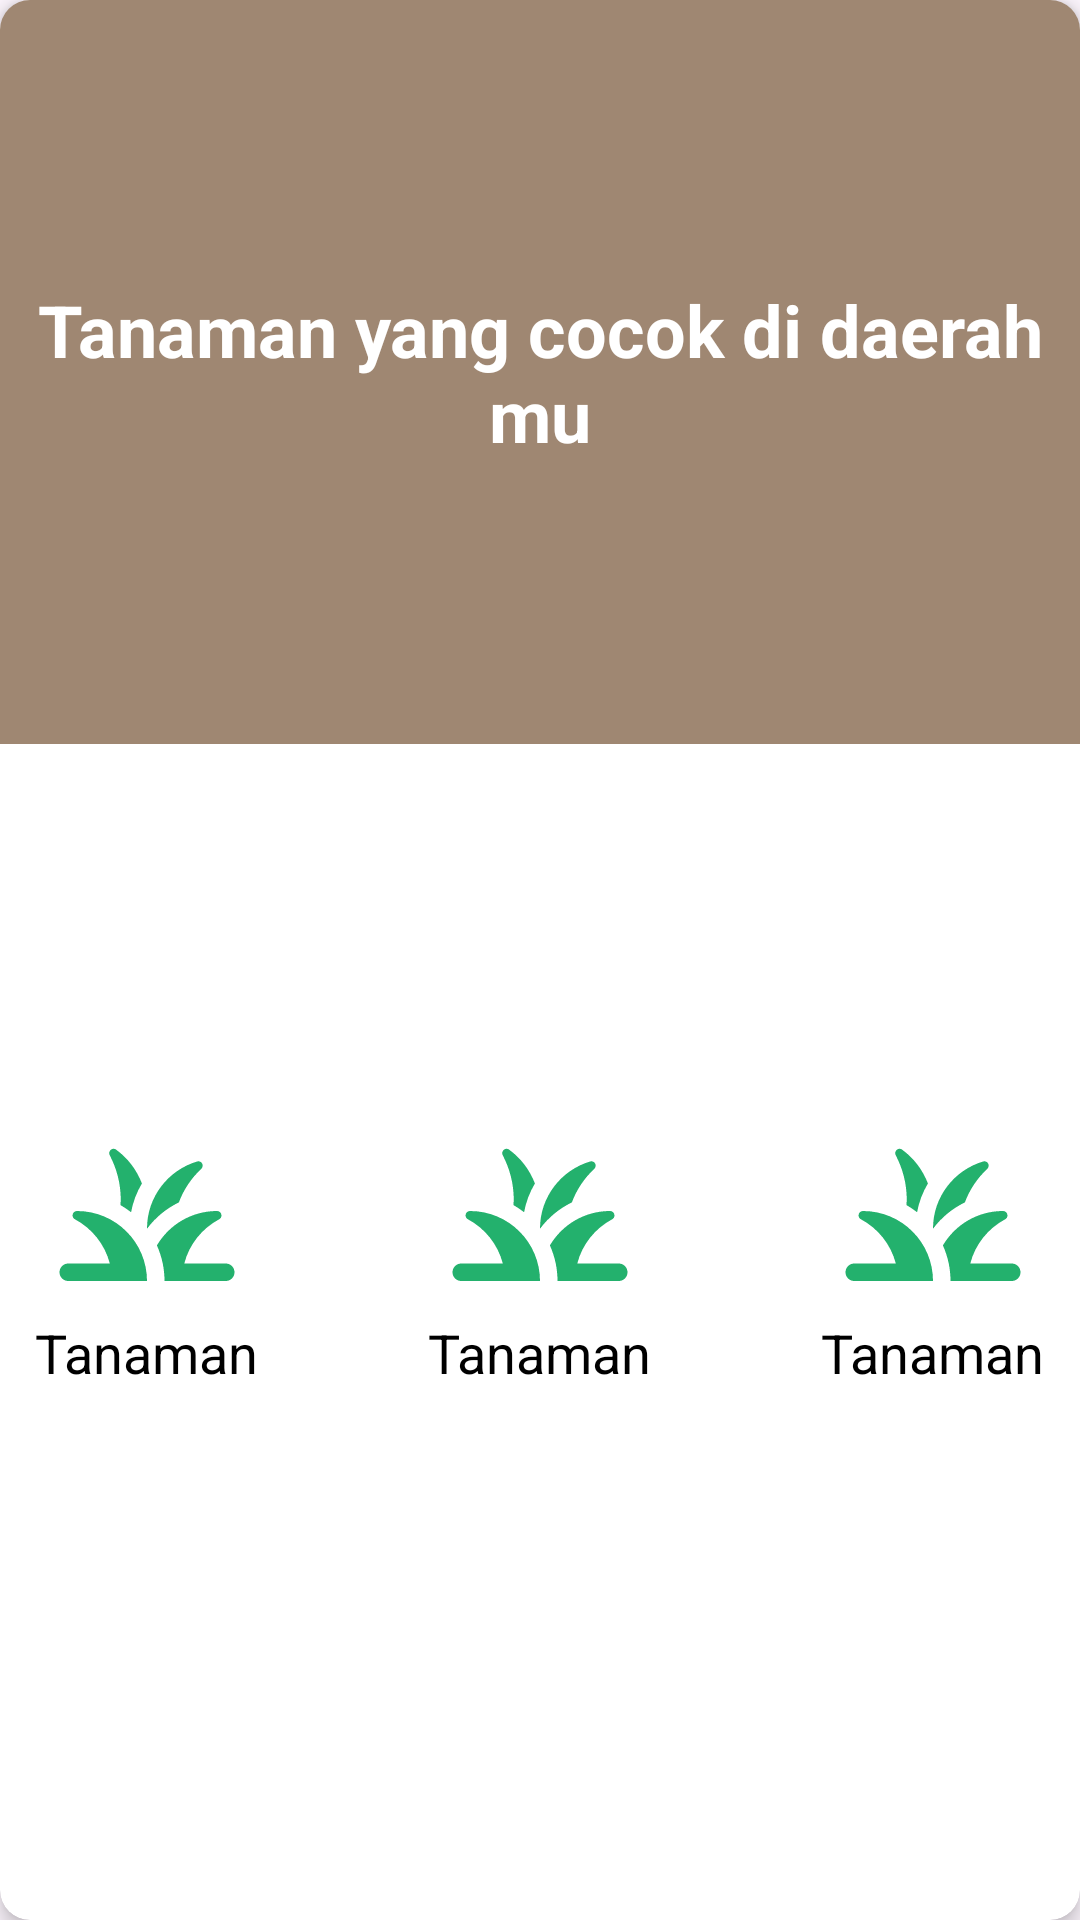

Named icons in this screenshot (1080px×1920px) and their centers, point (x, y):
grass: point (147, 1214), point (540, 1214), point (933, 1214)
